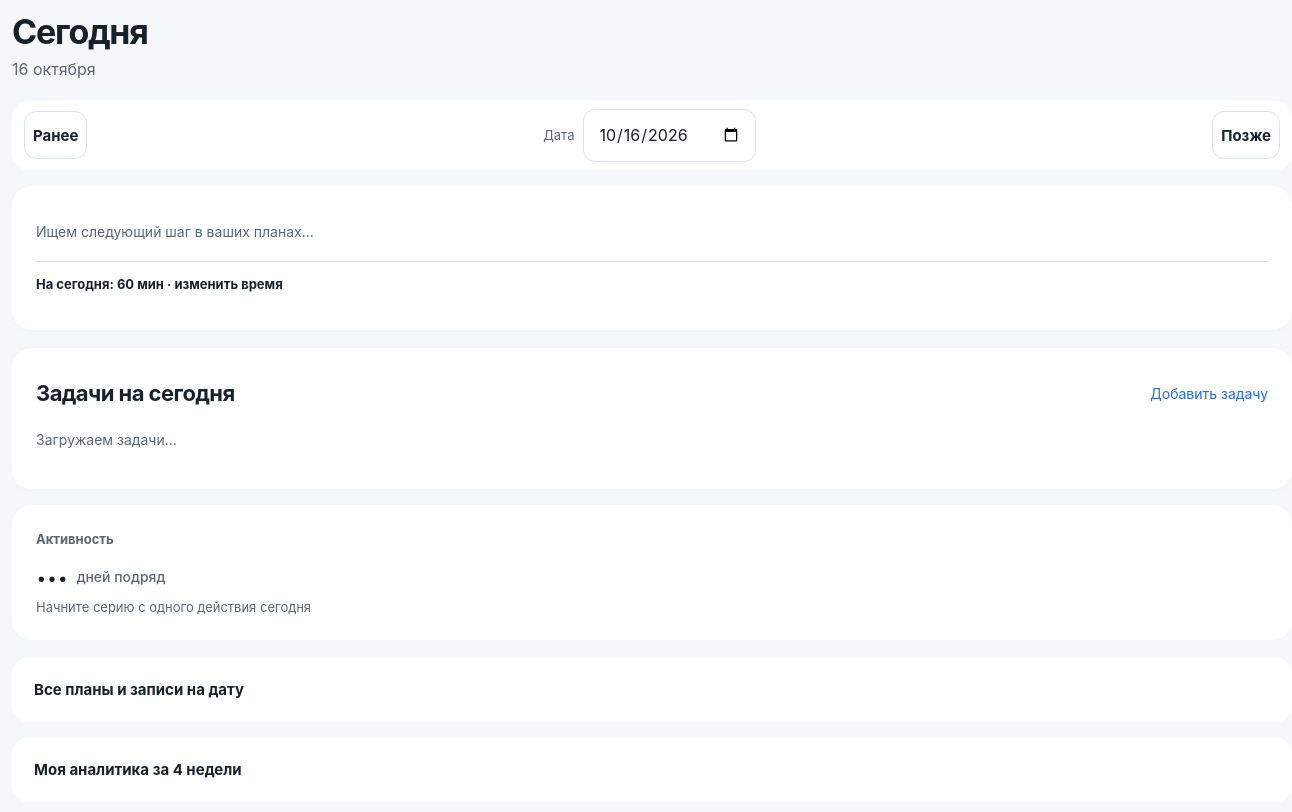
Test: rescheduled completion stays in history but is not counted as a planned task
The width and height of the screenshot is (1292, 812).
Type "2026-10-06" into the date field labelled "Дата".
click(670, 135); type("2026-10-06")  # box [584,109,756,162]
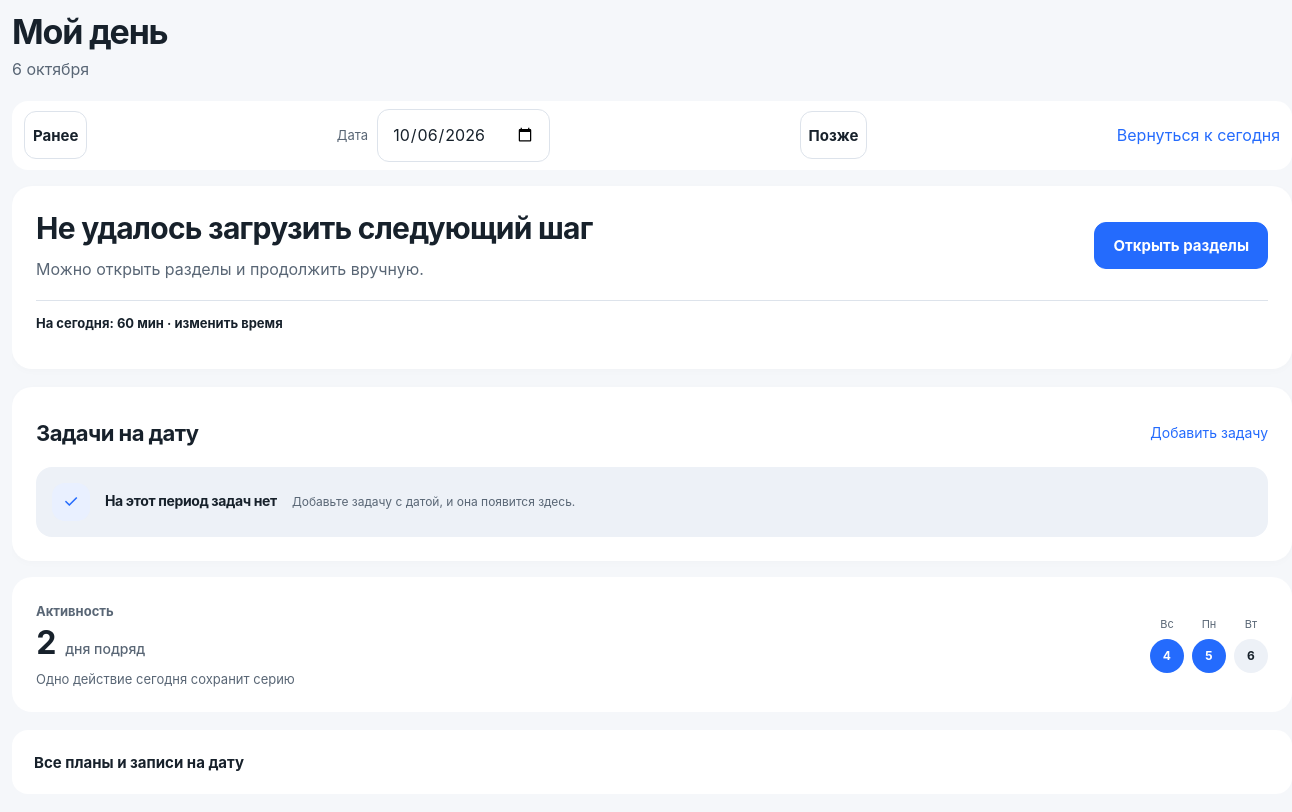
Check: the heading "На этот период задач нет" is shown, box [105,491,277,510]
Check: the element named "Серия активных дней" shows "2 дня подряд", box [12,577,1291,712]
